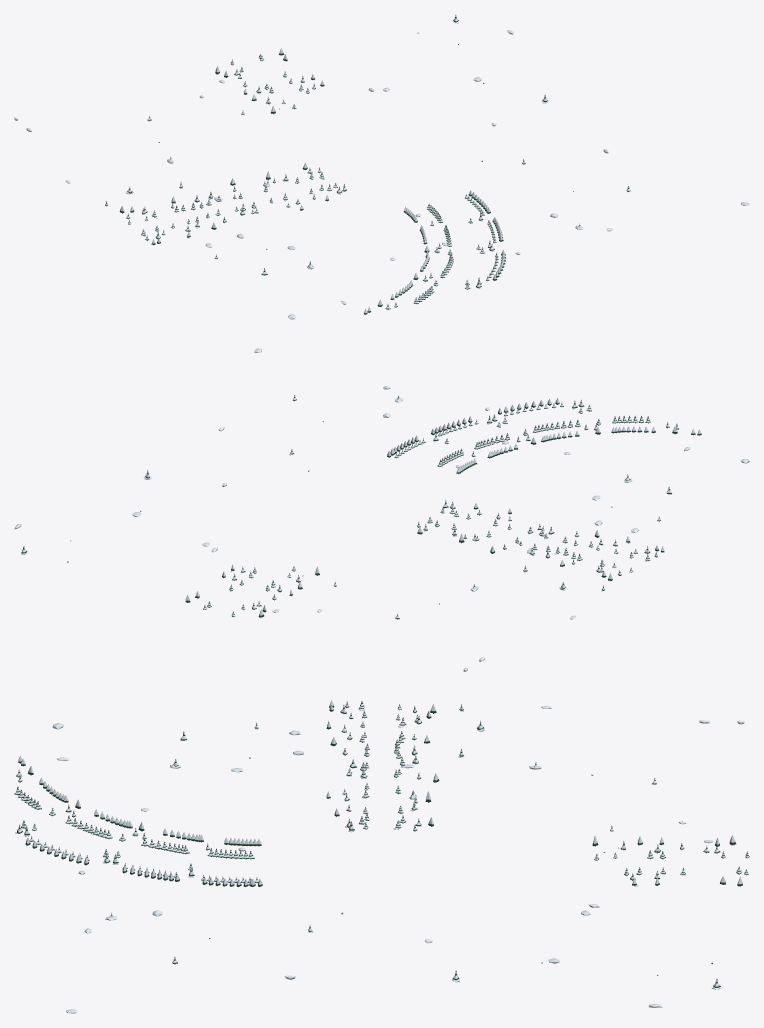
The model's file is Fill_-2_-2.fbx.
3 renders of one model, top to bottom at view 1: azimuth 30°, elevation 25°; view 2: azimuth 150°, elevation 25°; view 3: azimuth 270°, elevation 25°, orthographic. The views are drawn at different scales.
Visible parts, largest first — view 1: Fill_-2_-2; view 2: Fill_-2_-2; view 3: Fill_-2_-2.
Boxes of the visible parts, x1=… form: Fill_-2_-2: x1=14, y1=14, x2=749, y2=319; Fill_-2_-2: x1=14, y1=348, x2=749, y2=671; Fill_-2_-2: x1=14, y1=700, x2=749, y2=1013.
Bounding box in the file's own units: 57841 × 1391 × 59279.
